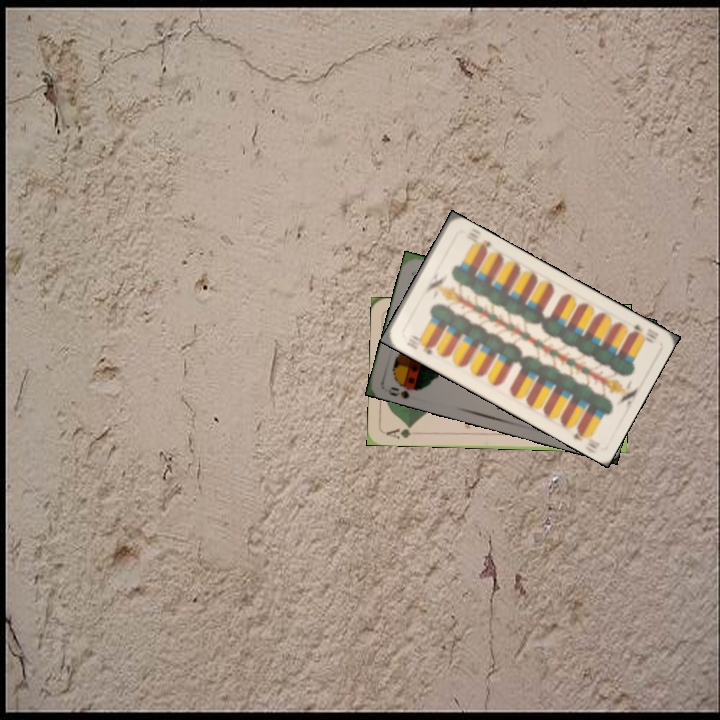E10: (625, 320, 661, 346), (402, 334, 437, 357)
GA: (382, 422, 422, 441)
SO: (384, 377, 424, 401)
